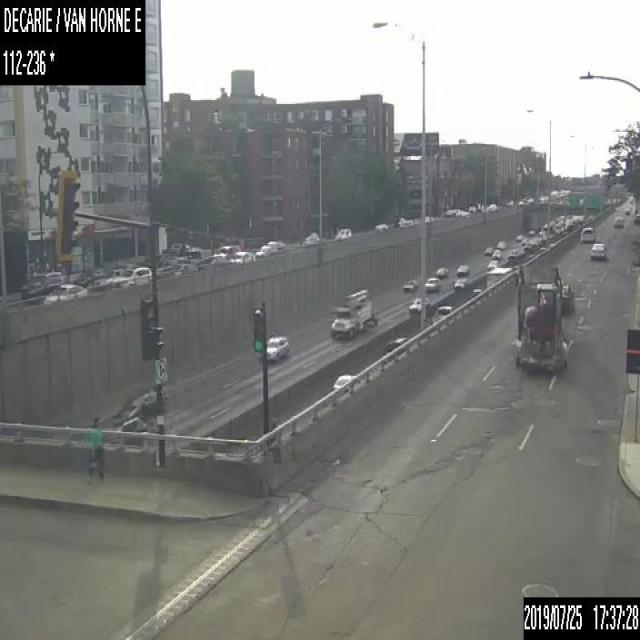pedestrian: (86, 416, 102, 483)
vehicle: (514, 270, 566, 365), (329, 285, 373, 339), (122, 386, 167, 415), (102, 414, 146, 443), (42, 282, 87, 305), (18, 273, 63, 296), (108, 265, 152, 285), (265, 334, 288, 362), (484, 266, 514, 287), (93, 268, 124, 285), (330, 372, 355, 391), (383, 336, 407, 355), (431, 304, 452, 323), (170, 261, 197, 275), (561, 283, 573, 312), (229, 250, 253, 264), (408, 296, 429, 311), (580, 226, 595, 243), (401, 276, 418, 291), (591, 241, 605, 259), (424, 276, 439, 291), (303, 231, 319, 245), (254, 243, 270, 257), (334, 227, 351, 240), (453, 276, 466, 288), (507, 246, 518, 258), (456, 264, 469, 274), (613, 215, 623, 227), (436, 266, 446, 278), (491, 247, 501, 259), (470, 287, 480, 297), (374, 223, 387, 230), (487, 259, 497, 268), (496, 240, 506, 248), (632, 214, 639, 225), (484, 246, 492, 255), (515, 233, 523, 240), (523, 242, 530, 250), (521, 237, 528, 244), (624, 208, 629, 213)
